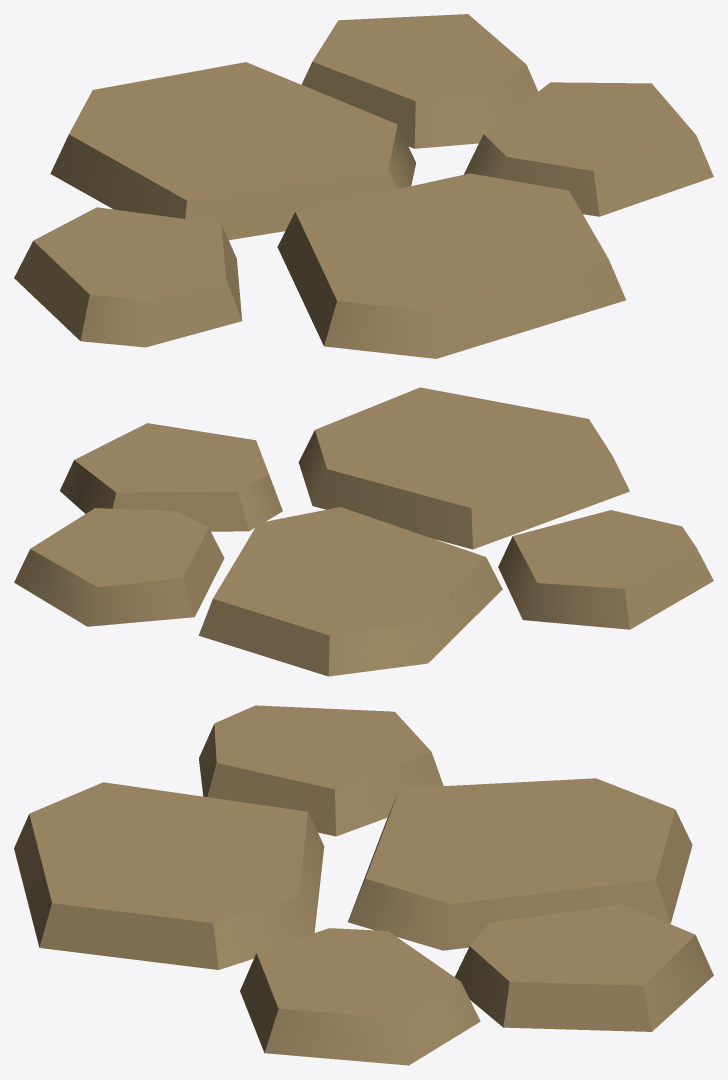
The model's file is Rocas-Piso-2.FBX.
3 views of the same model, one above another, from view 1: azimuth 30°, elevation 25°; view 2: azimuth 150°, elevation 25°; view 3: azimuth 270°, elevation 25° (orthographic). The views are drawn at different scales.
Parts seen in each view (by area): view 1: Rocas-Piso-2; view 2: Rocas-Piso-2; view 3: Rocas-Piso-2.
Boxes of the visible parts, <box> form: Rocas-Piso-2: <box>14,14,713,358</box>; Rocas-Piso-2: <box>14,387,713,676</box>; Rocas-Piso-2: <box>14,705,713,1065</box>.
Size of the model in its own units: 149 by 9.91 by 135.
Materials: 1 (1 with a texture image).
